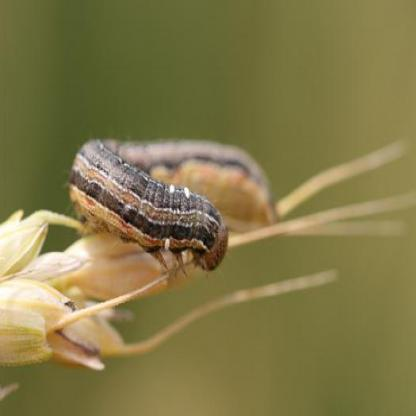armyworm: (66, 134, 282, 276)
